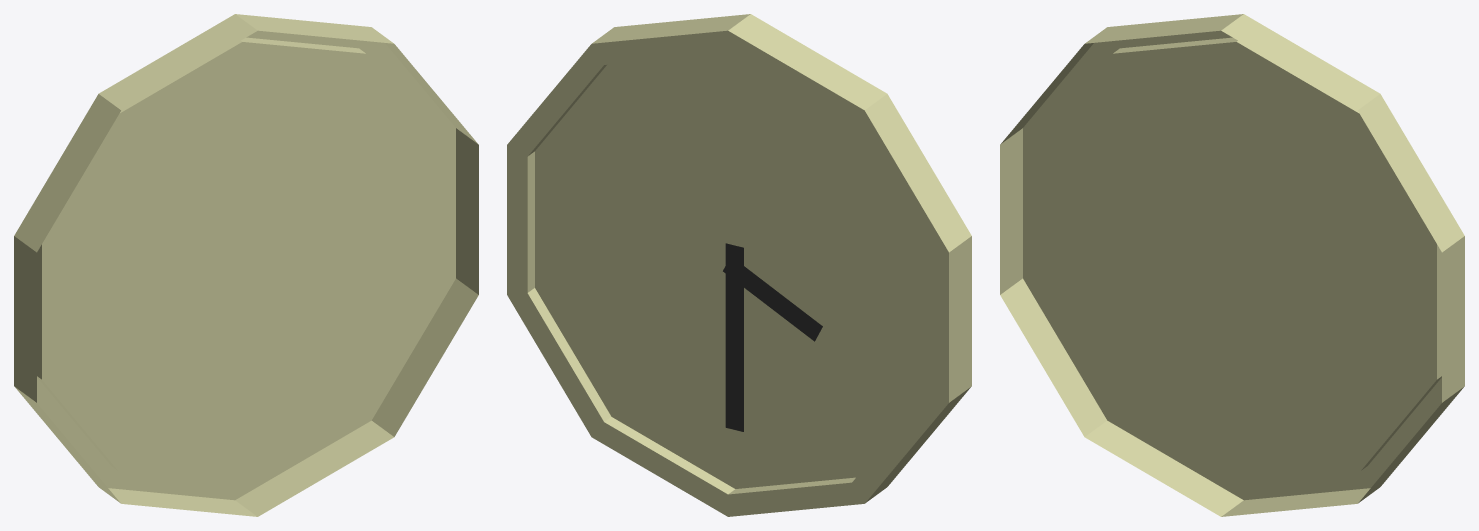
File: Clock.fbx
The picture shows the model from 3 angles, left to right: view 1: azimuth 30°, elevation 25°; view 2: azimuth 150°, elevation 25°; view 3: azimuth 330°, elevation 25°; orthographic projection.
Visible parts, largest first — view 1: Clock.003; view 2: Clock.003; view 3: Clock.003.
Part boxes in pixels (left/top/right/bottom): Clock.003: left=14, top=14, right=478, bottom=516; Clock.003: left=507, top=14, right=971, bottom=516; Clock.003: left=1000, top=14, right=1464, bottom=516.
Size of the model in its own units: 0.492 by 0.5174 by 0.044.
